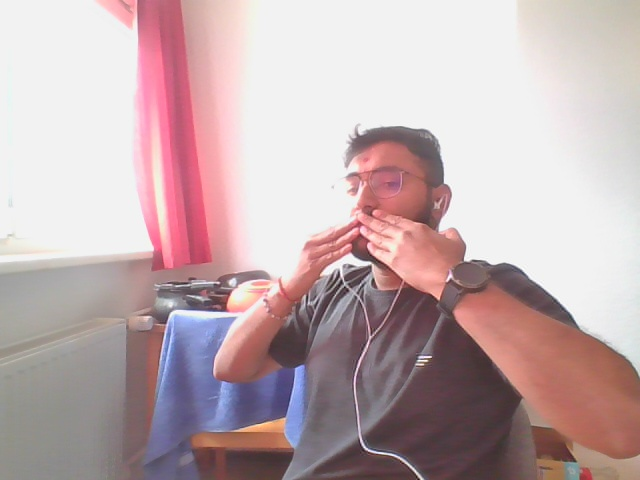ThankYou: (287, 208, 459, 292)
